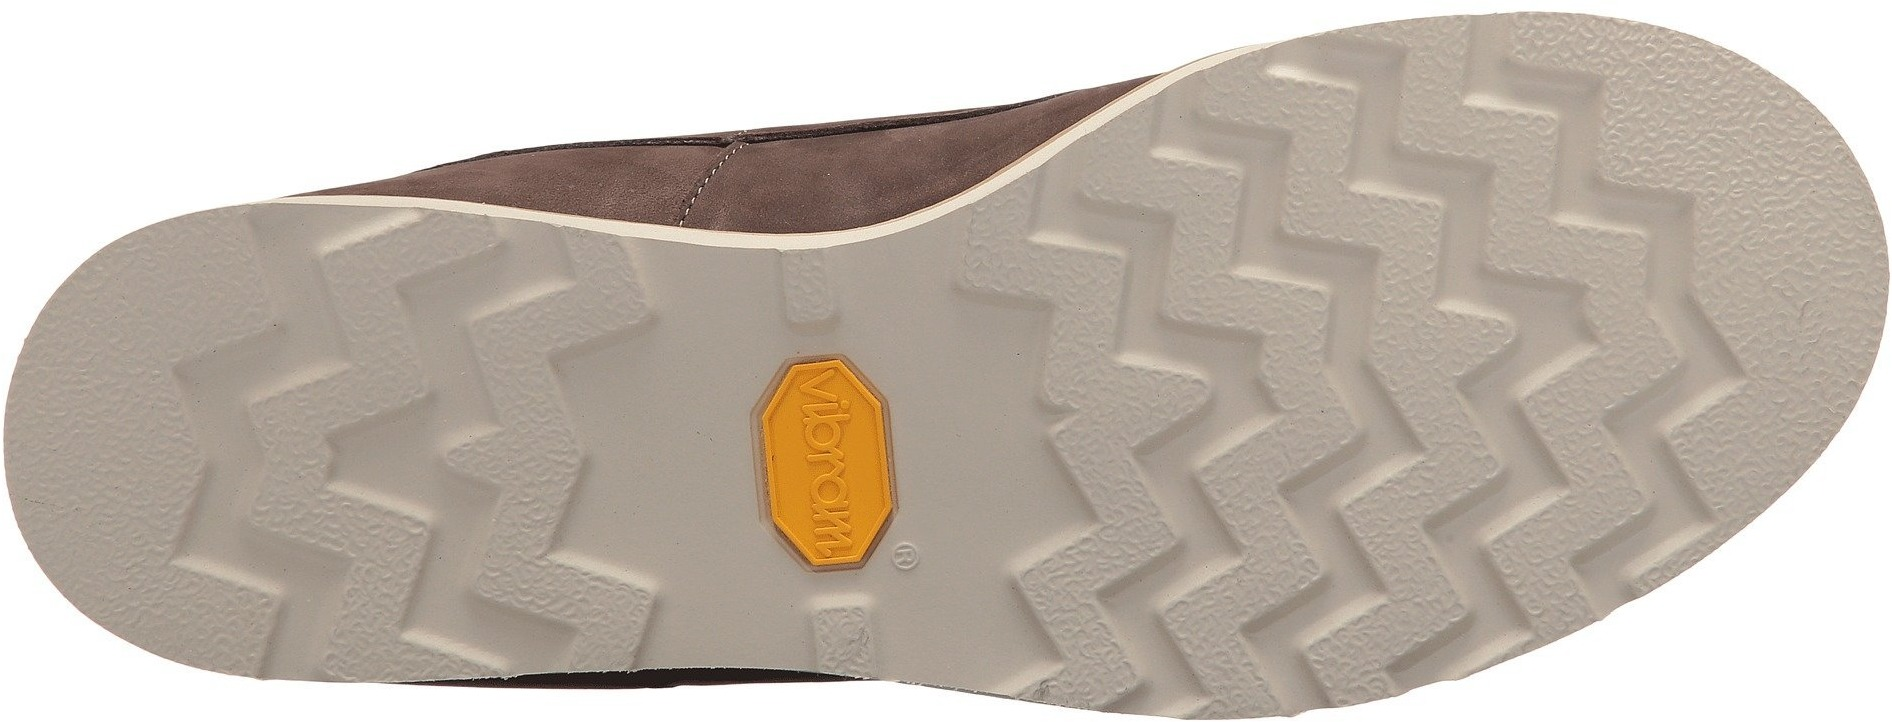chevron: (954, 5, 1890, 716), (5, 199, 677, 681)
exclude: (360, 669, 924, 710)
